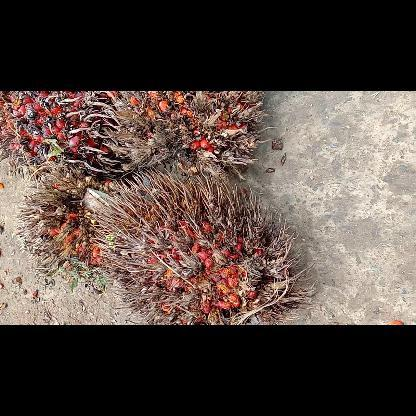Terlalu masak: (76, 164, 320, 324), (100, 90, 274, 182), (13, 167, 129, 291), (0, 90, 126, 182)
